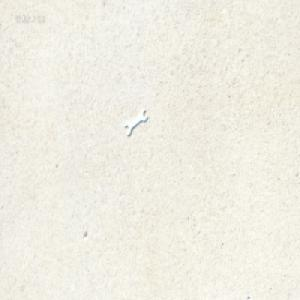Wrench: (128, 107, 150, 135)
